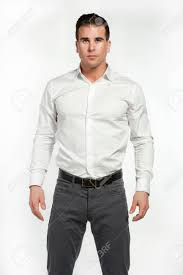F_belt: (49, 164, 129, 192)
F_dress pants: (41, 181, 136, 275)
F_shirt: (31, 64, 156, 198)
